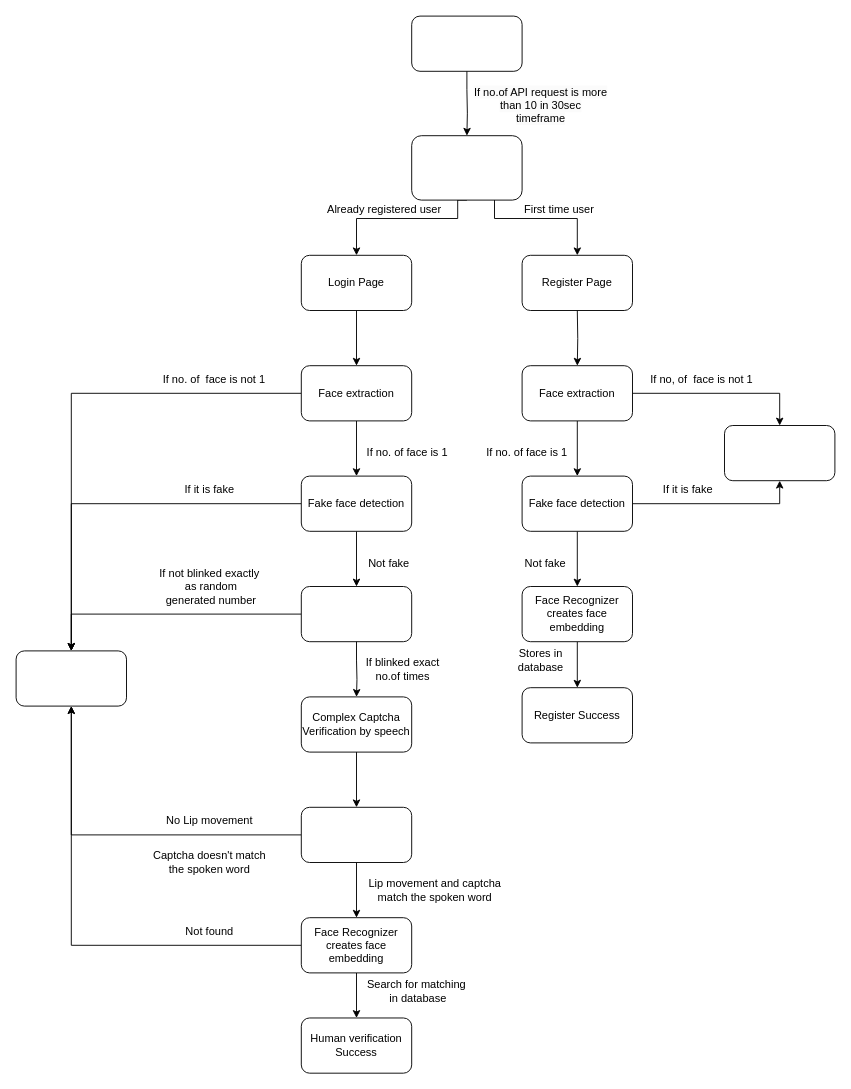
Image size: 851x1089. Some labels were removed from this diagram. Here are the shapes that lost their labels. From the top down, the centre of each, then its label:
At [466,43]: "Server hosting the website(to be protected)".
At [466,167]: "2FA Landing Page".
At [779,453]: "Register Fail".
At [356,614]: "Blink Detection".
At [70,678]: "Failed human verification".
At [356,834]: "Lip Movement detected while captcha verification?".
